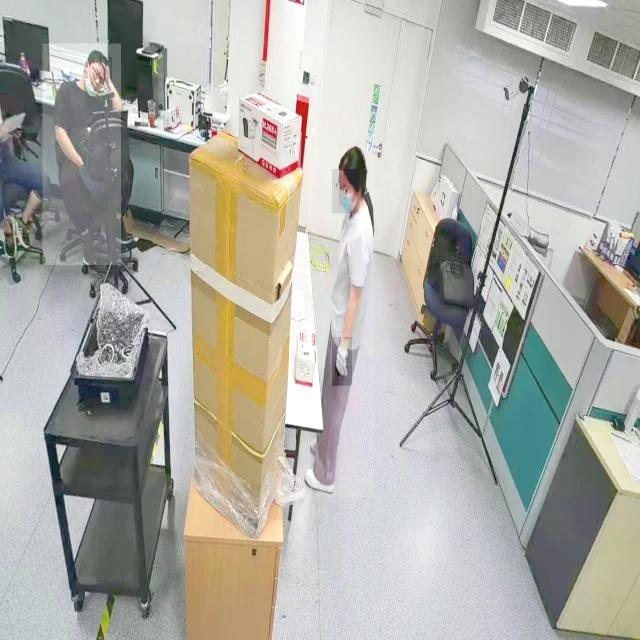face_mask: (332, 169, 360, 213)
hand_glove: (332, 337, 352, 387)
hand_noglove: (100, 57, 112, 85)
head_nohelmet: (338, 143, 368, 170), (85, 48, 109, 59)
person: (308, 146, 375, 498), (42, 44, 121, 266)
shoes: (12, 212, 33, 254), (304, 465, 333, 494), (79, 230, 99, 268), (2, 211, 18, 257)
